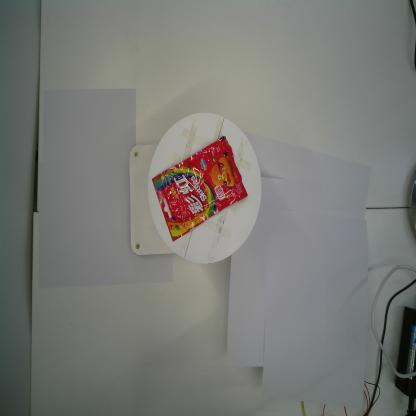Candy: (150, 135, 250, 245)
